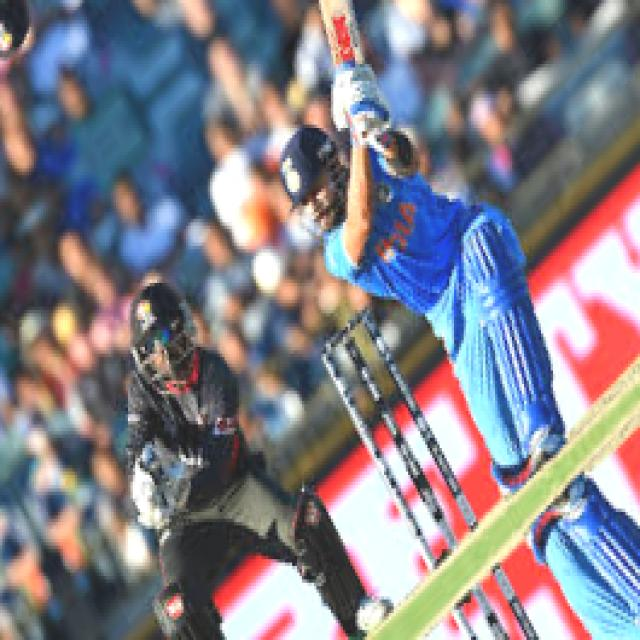toe: (316, 0, 358, 13)
